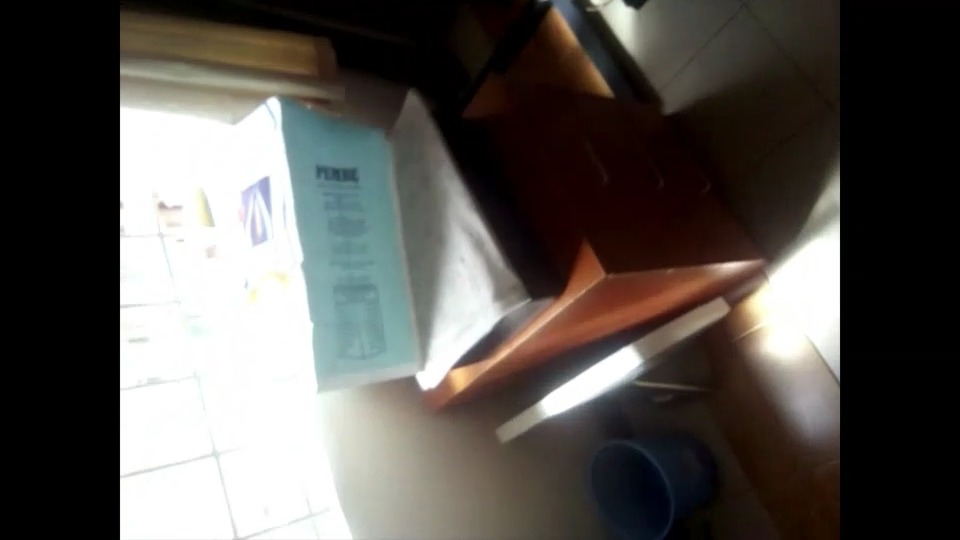wheat_flour_blue_label: (217, 93, 424, 382)
